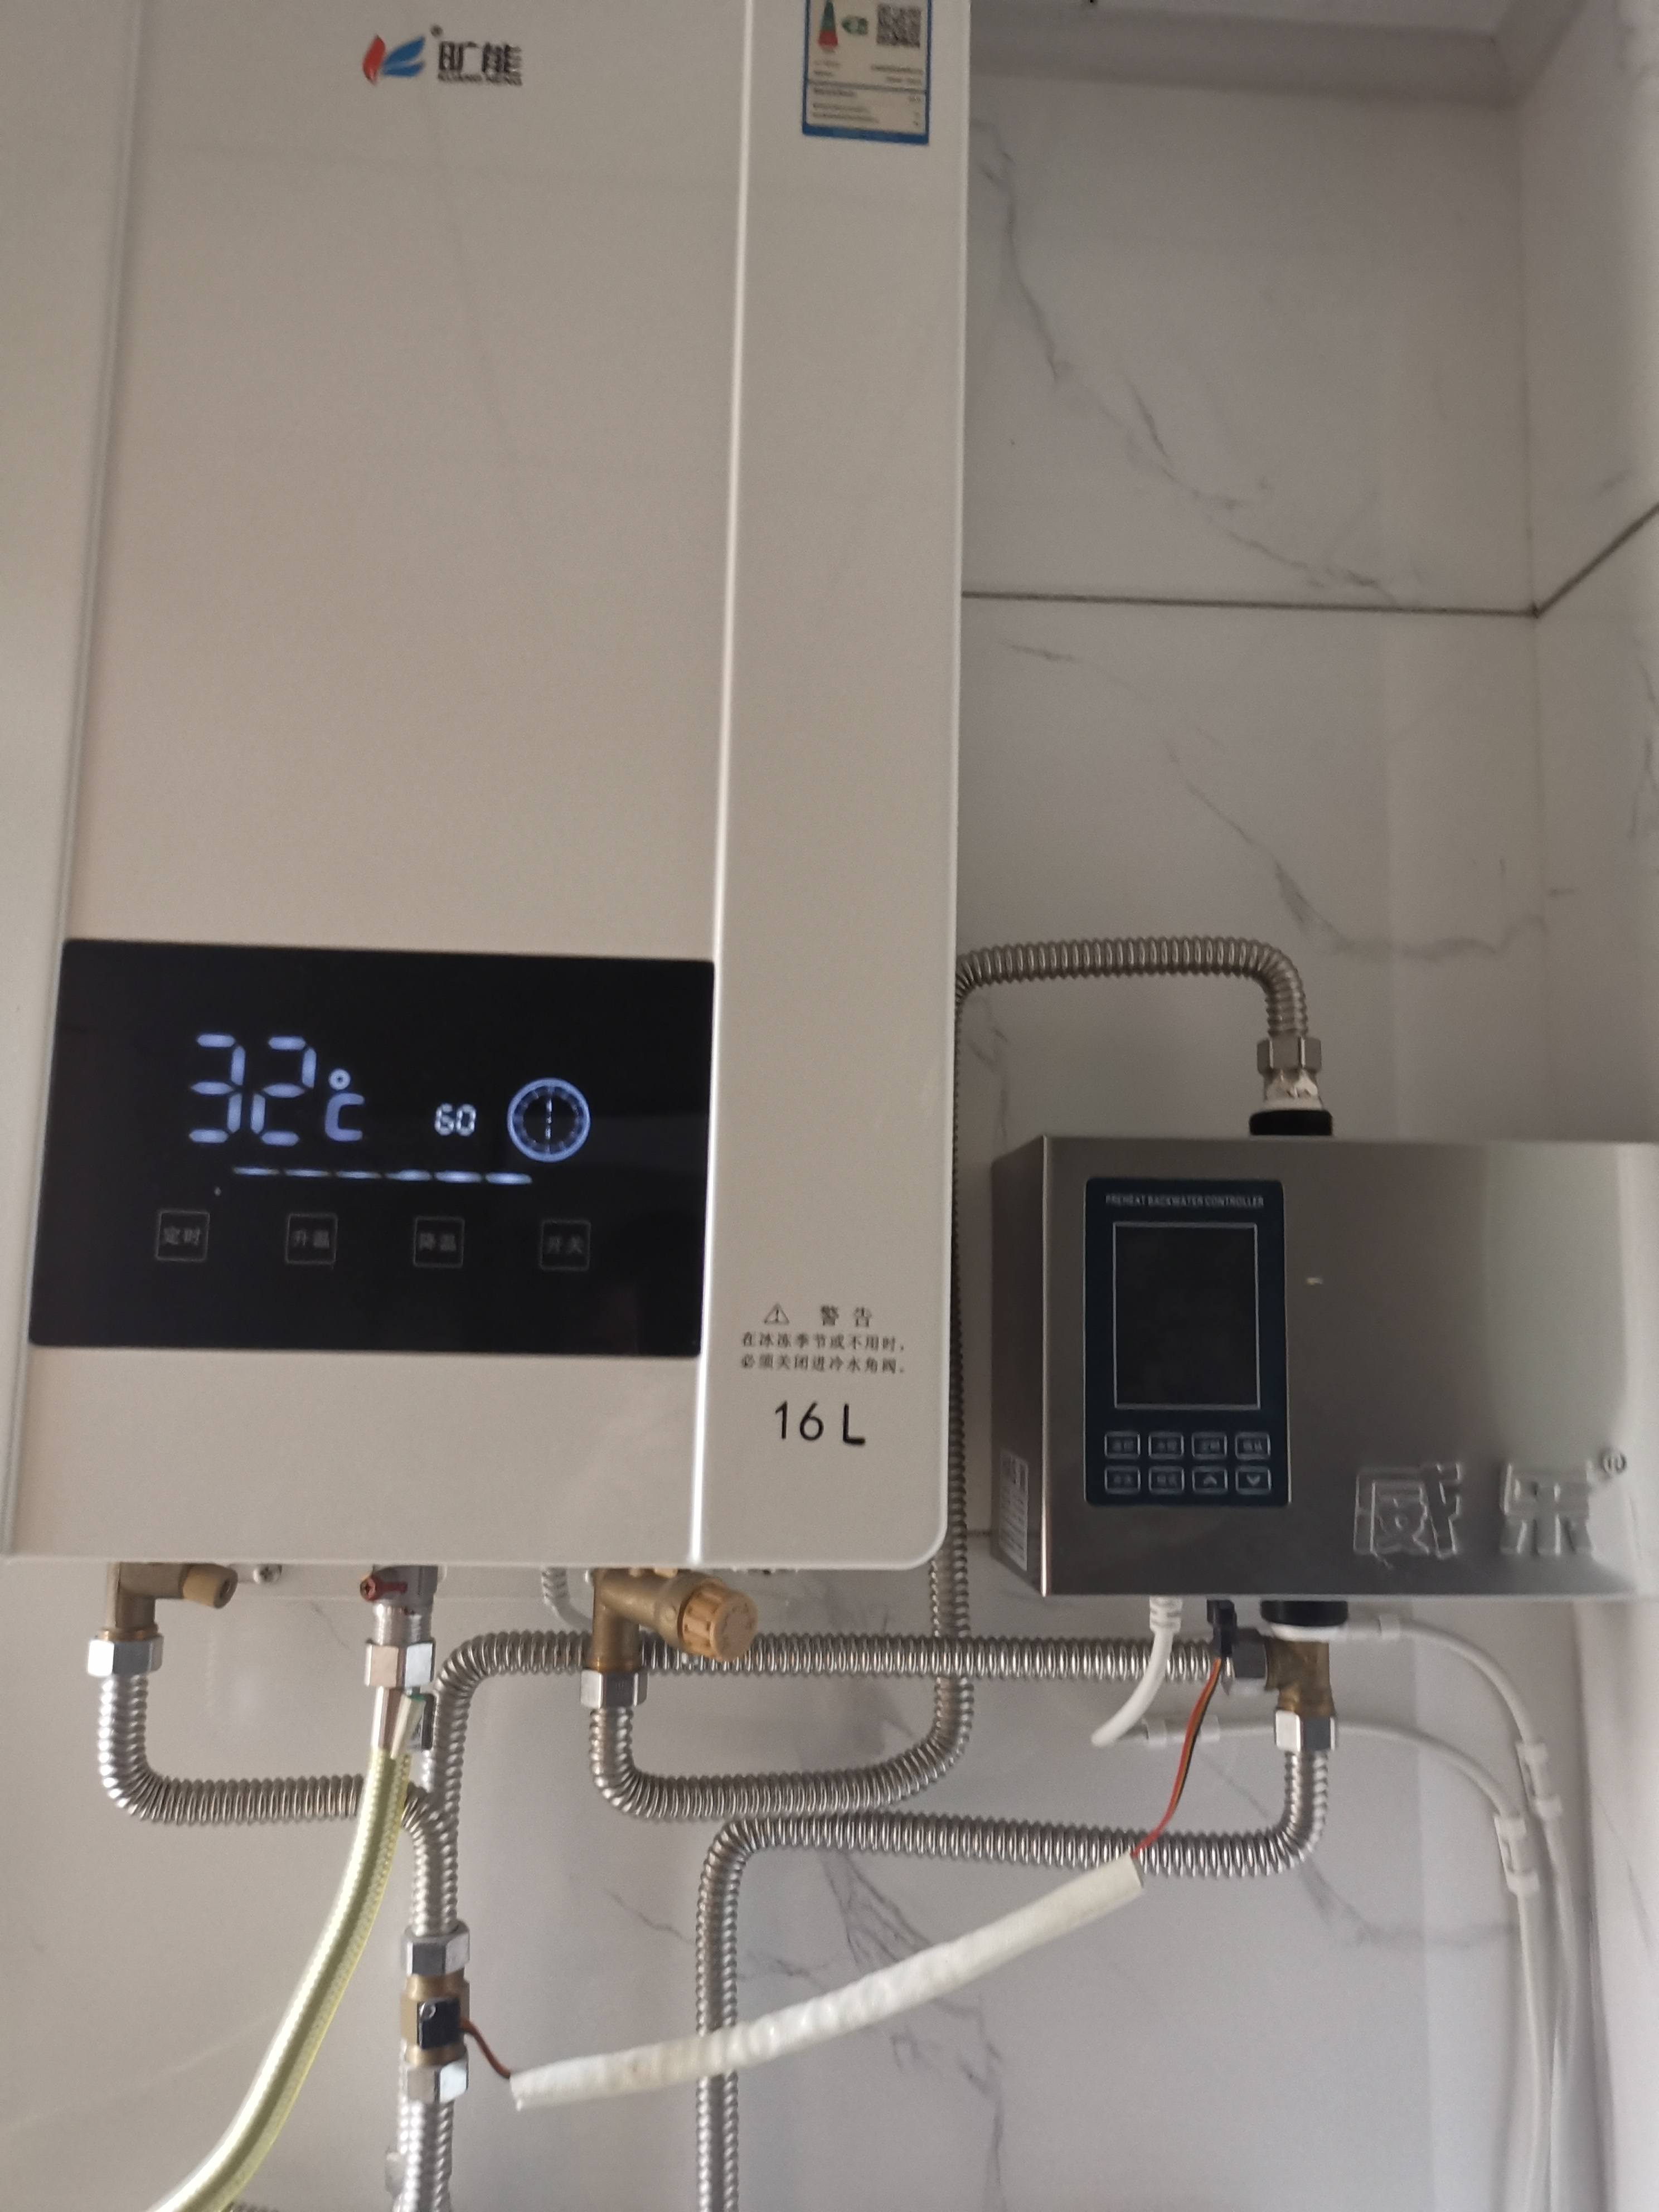loudou: (338, 16, 565, 115)
